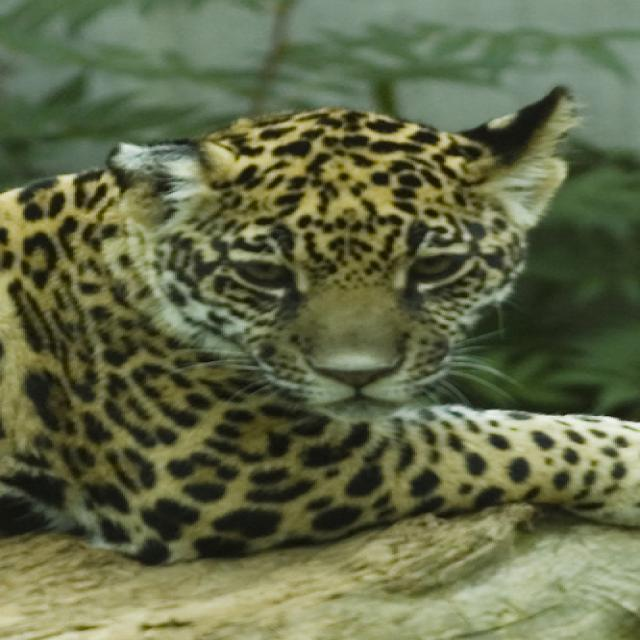Leopard: (0, 82, 634, 566)
